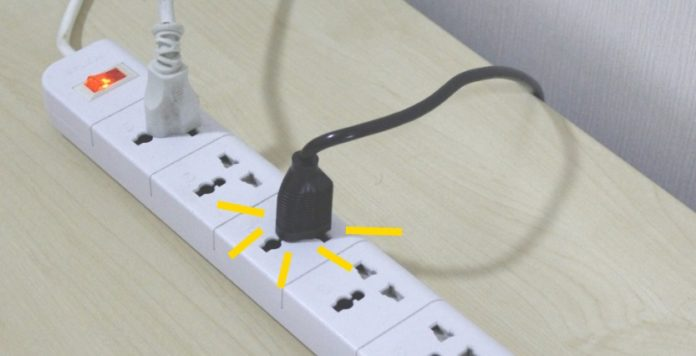Three_eye_plug: (38, 33, 529, 356)
